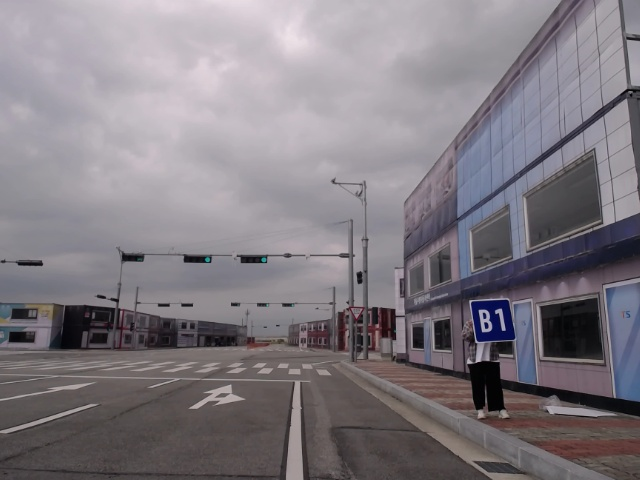delivery_b1: (470, 299, 516, 343)
straight_green_4: (184, 255, 212, 263), (240, 255, 268, 263), (256, 303, 270, 307), (282, 303, 295, 307)
